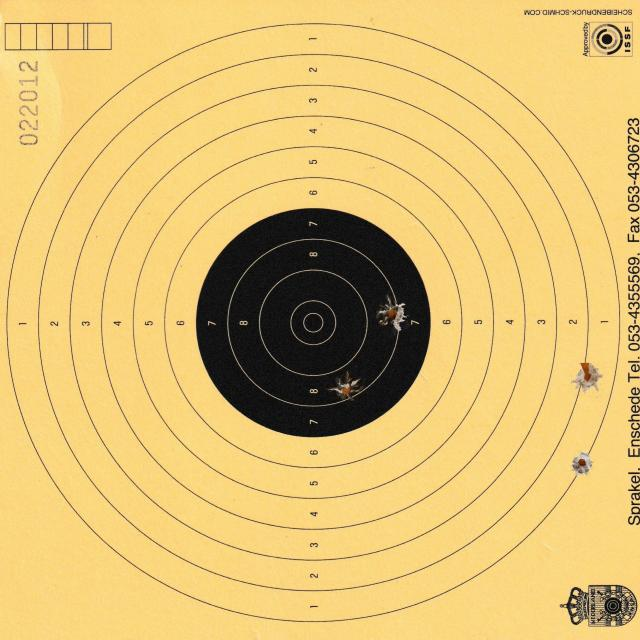1: (570, 451, 594, 476)
2: (570, 362, 606, 394)
8: (375, 293, 410, 332), (326, 369, 365, 402)
Target: (2, 19, 624, 625)
black_contour: (195, 208, 432, 438)
